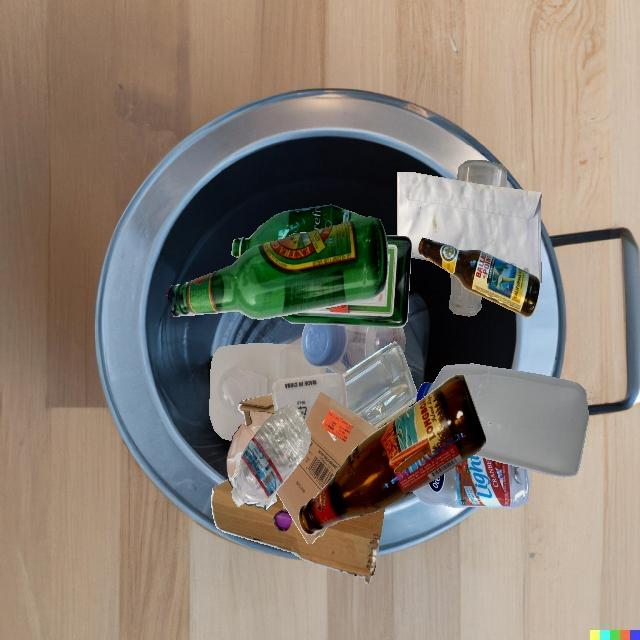cardboard: (211, 479, 385, 584), (276, 392, 378, 544), (246, 425, 378, 506)
glass: (298, 374, 486, 535), (166, 216, 388, 320), (280, 235, 412, 327), (418, 238, 540, 317), (449, 273, 482, 316), (457, 160, 507, 188)
paper: (397, 172, 542, 283), (226, 411, 273, 489)
plastic: (416, 363, 589, 477), (209, 343, 326, 441), (231, 406, 310, 507), (231, 204, 366, 258), (342, 341, 417, 428), (413, 455, 530, 508), (301, 324, 406, 374), (272, 373, 348, 422)
